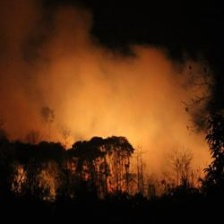fire: (15, 164, 60, 206)
smoke: (18, 42, 205, 151)
